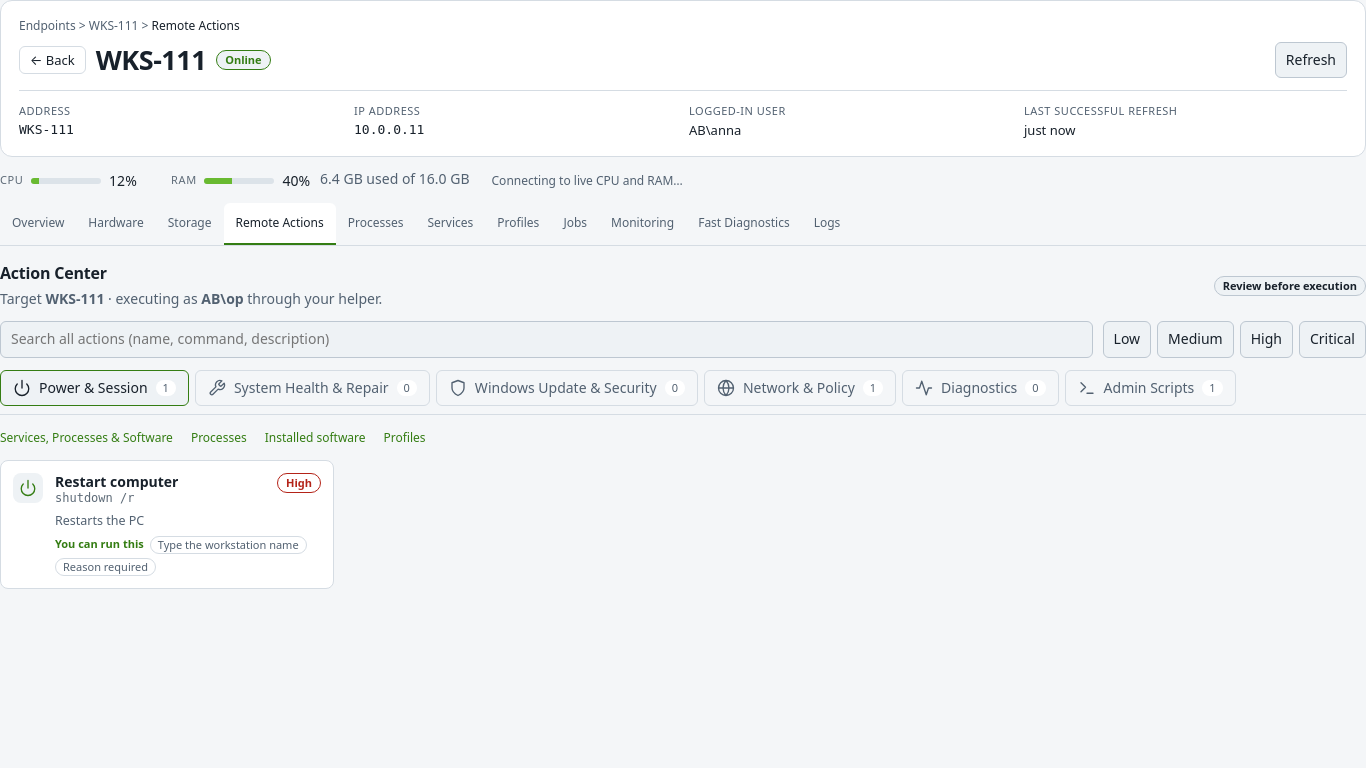
Action Center › a high-risk action keeps its confirmation: nothing is submitted until it is confirmed
Click the button with aria-label "Run Restart computer" at (117, 482), box [0,460,334,589]
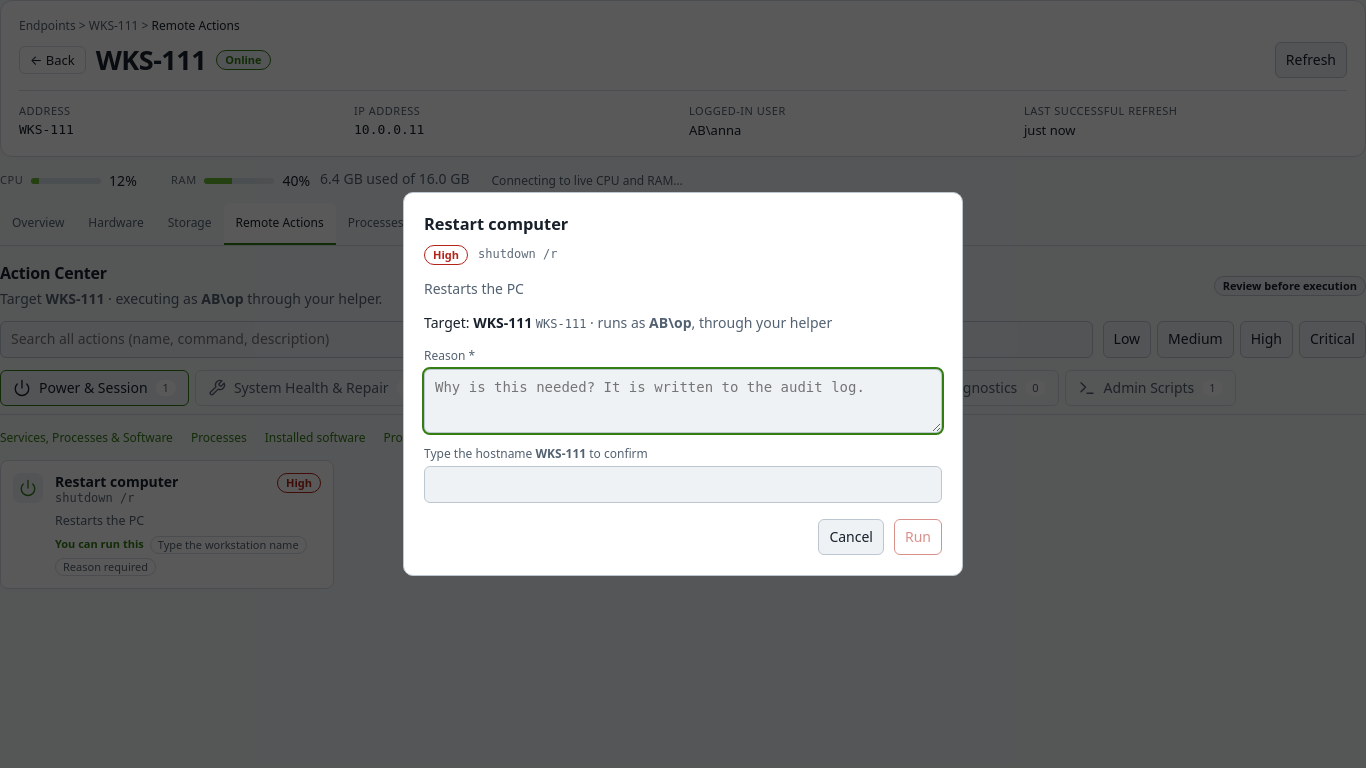
Expected: the dialog is shown, [403,192,963,576]
